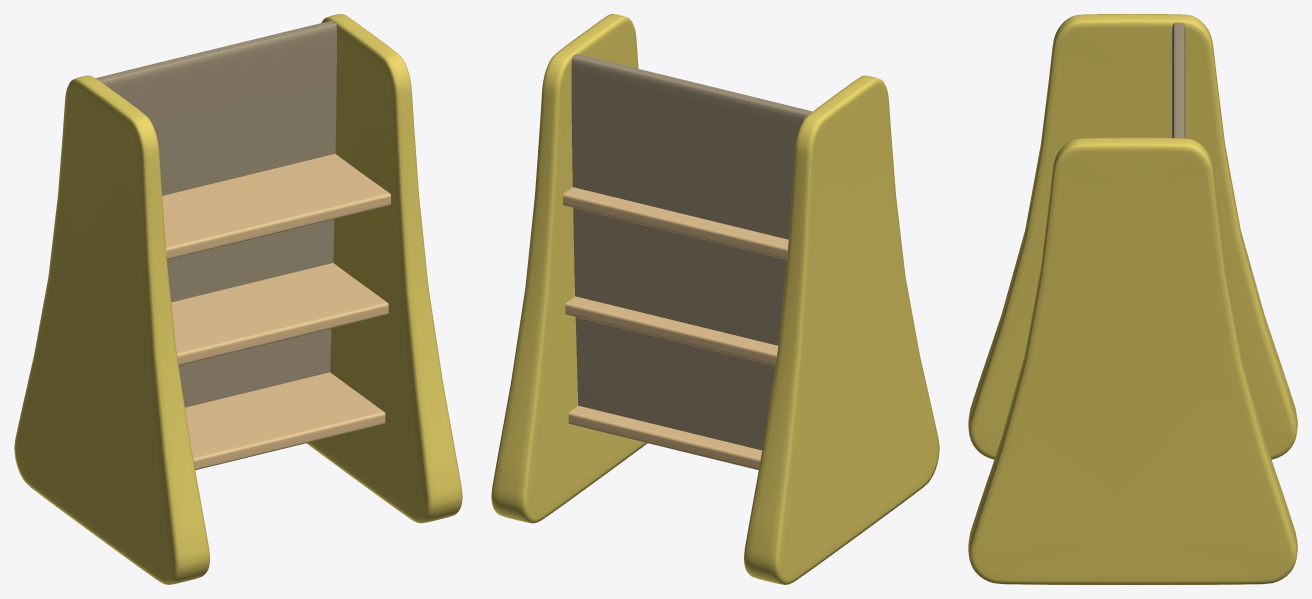
File: Bookself.fbx
The picture shows the model from 3 angles, left to right: view 1: azimuth 30°, elevation 25°; view 2: azimuth 150°, elevation 25°; view 3: azimuth 270°, elevation 25°; orthographic projection.
Visible parts, largest first — view 1: Cube.002; view 2: Cube.002; view 3: Cube.002.
Part boxes in pixels (bbox=[...]): Cube.002: bbox=[14, 14, 462, 584]; Cube.002: bbox=[491, 14, 939, 584]; Cube.002: bbox=[968, 14, 1297, 584].
Bounding box in the file's own units: 1.39 × 2.01 × 1.37.
